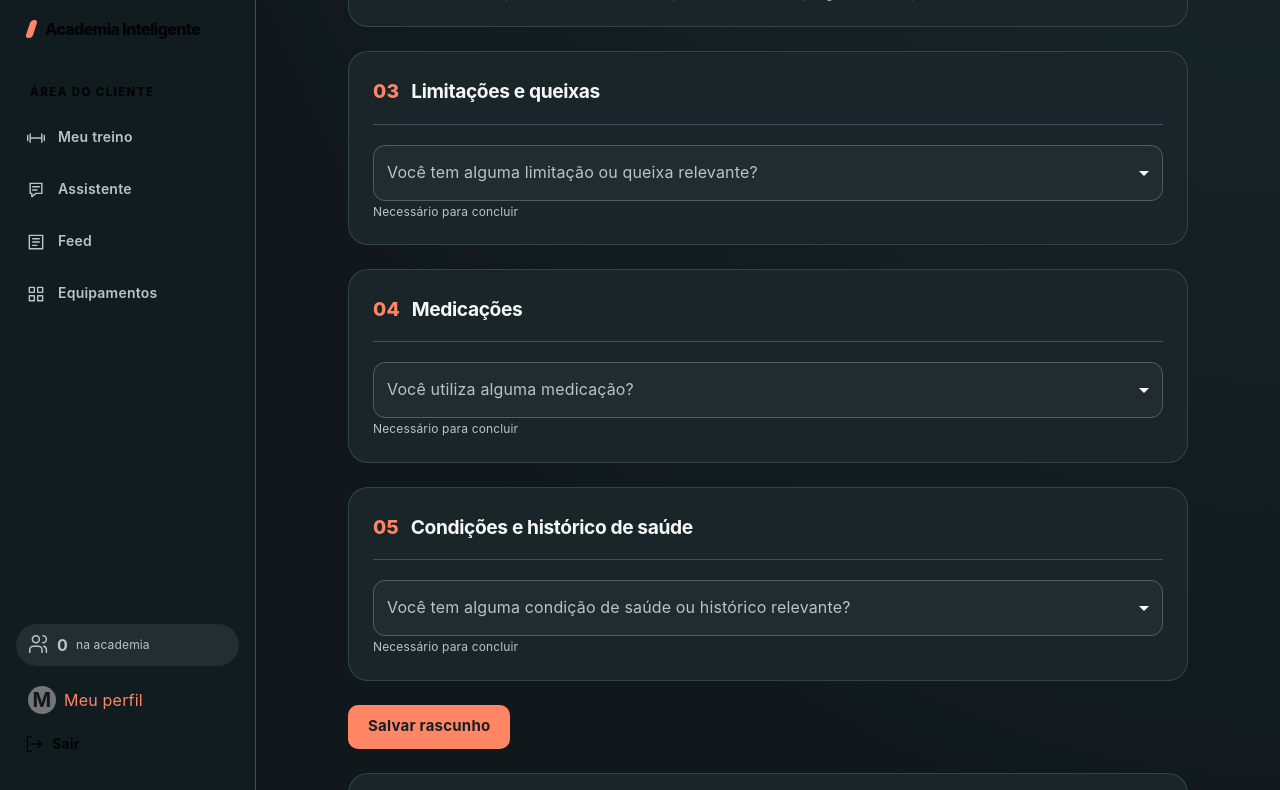
shows conditional health details only after the client answers yes
(page scrolled)
Expected: the field labelled "Quais medicações você utiliza?" is not shown
Press the mouse on the dropdown named "Você utiliza alguma medicação?" next to "Você utiliza alguma medicação?": (768, 390) [373,362,1163,418]
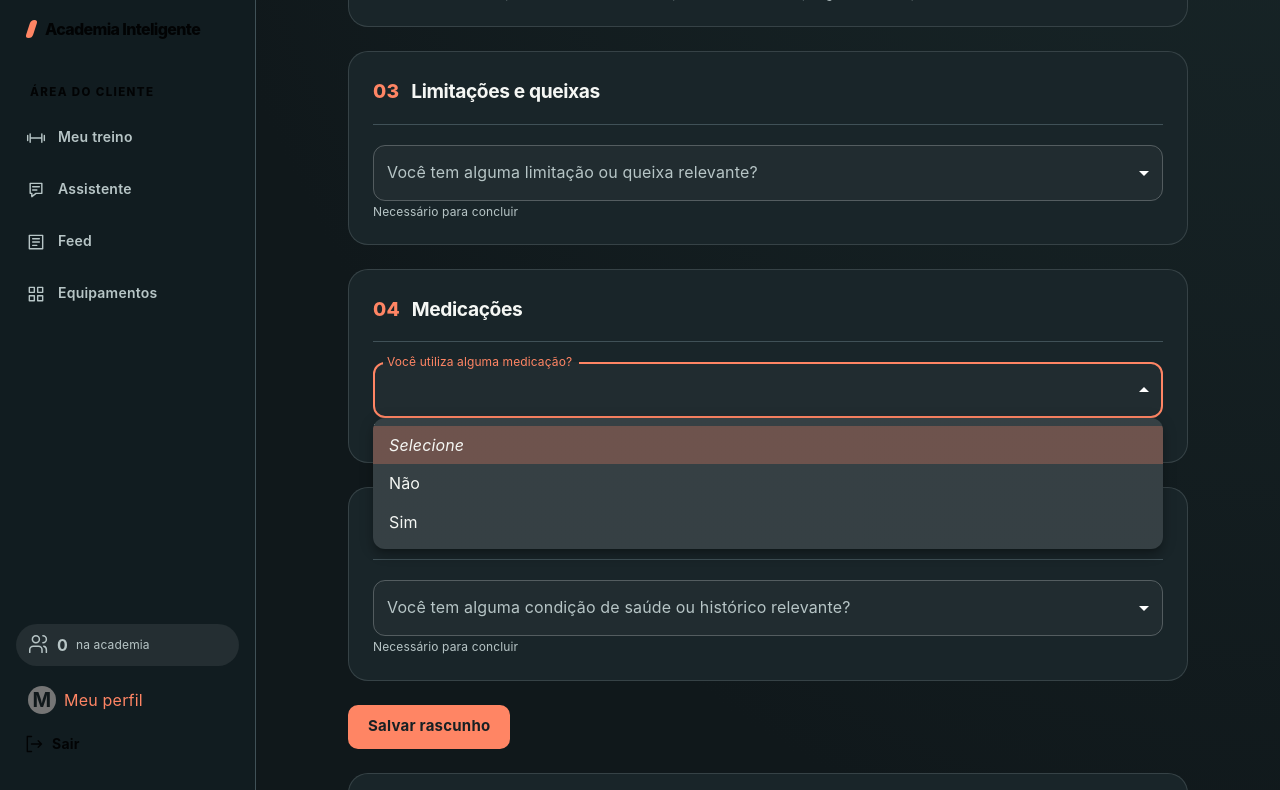
Click the option "Sim": (403, 522) [389,512,418,532]
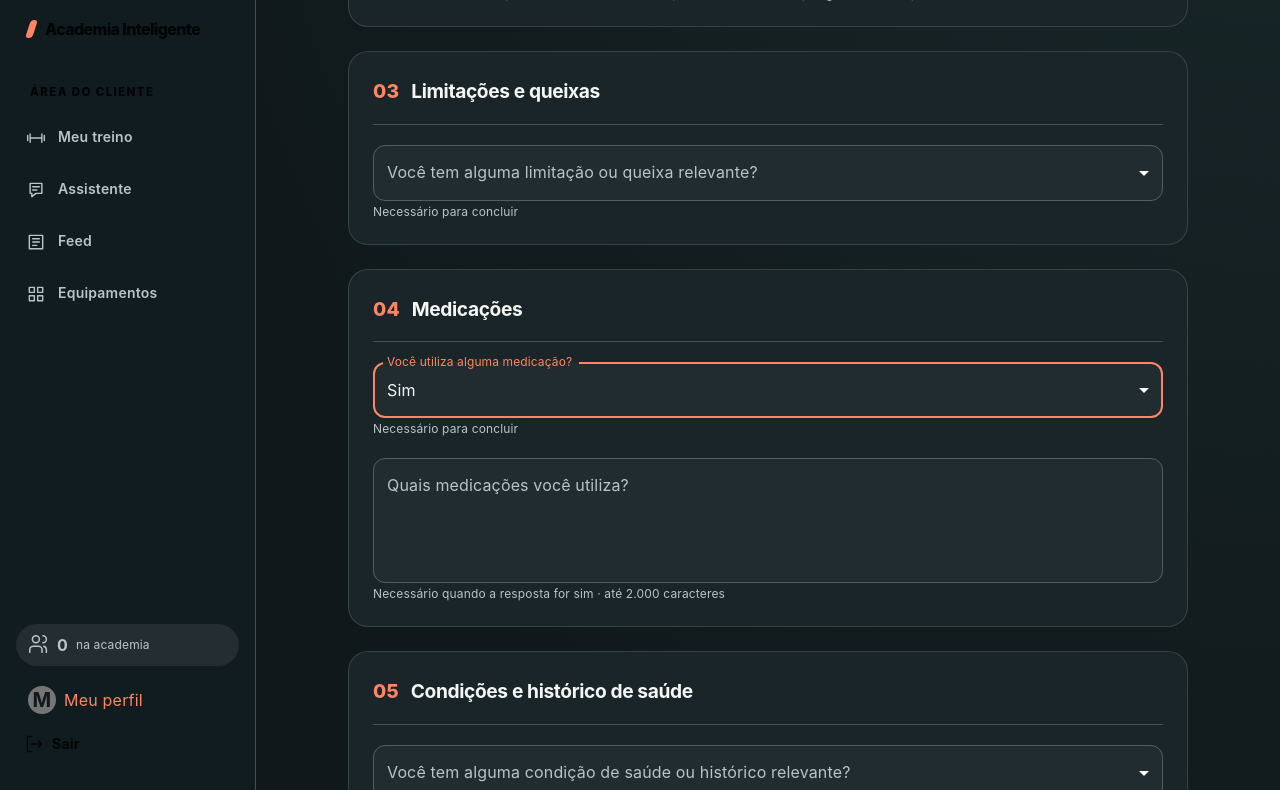
Result: the text box labelled "Quais medicações você utiliza?" is shown at [387,474,1149,566]
